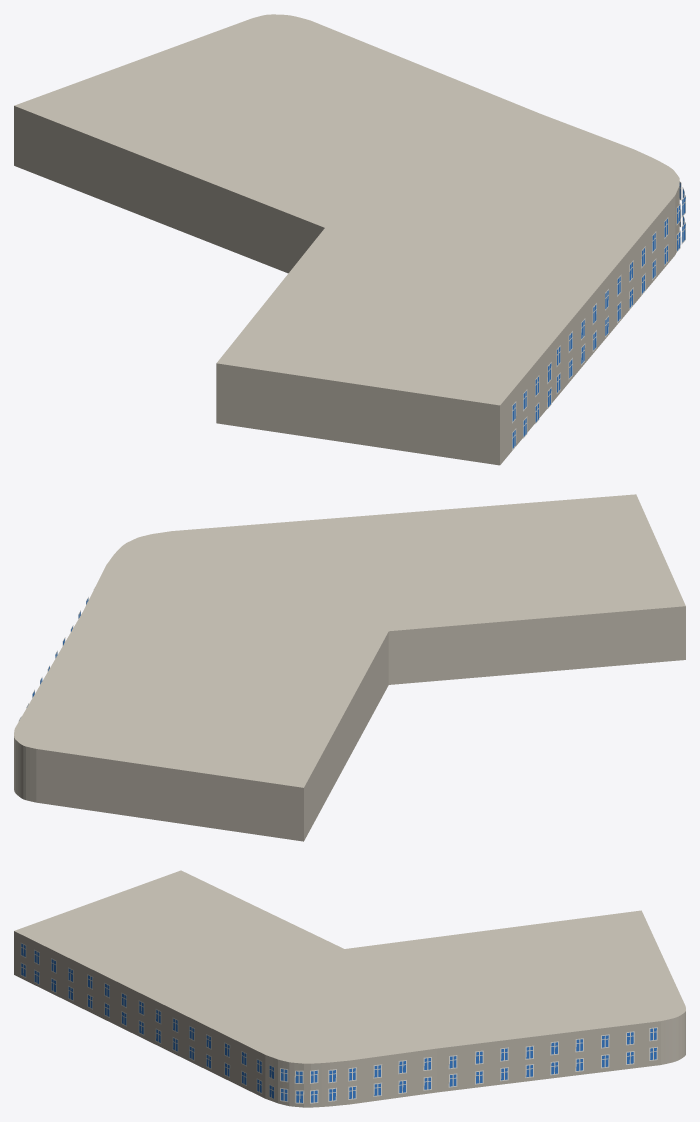
3 renders of one model, top to bottom at view 1: azimuth 30°, elevation 25°; view 2: azimuth 150°, elevation 25°; view 3: azimuth 270°, elevation 25°, orthographic. The views are drawn at different scales.
Parts seen in each view (by area): view 1: Плоскость.655; view 2: Плоскость.655; view 3: Плоскость.655.
Part boxes in pixels (box(x1,y1,x2,y2)): Плоскость.655: box(14, 14, 685, 465); Плоскость.655: box(14, 494, 685, 841); Плоскость.655: box(14, 870, 685, 1107).
Size of the model in its own units: 516 by 54.46 by 755.
